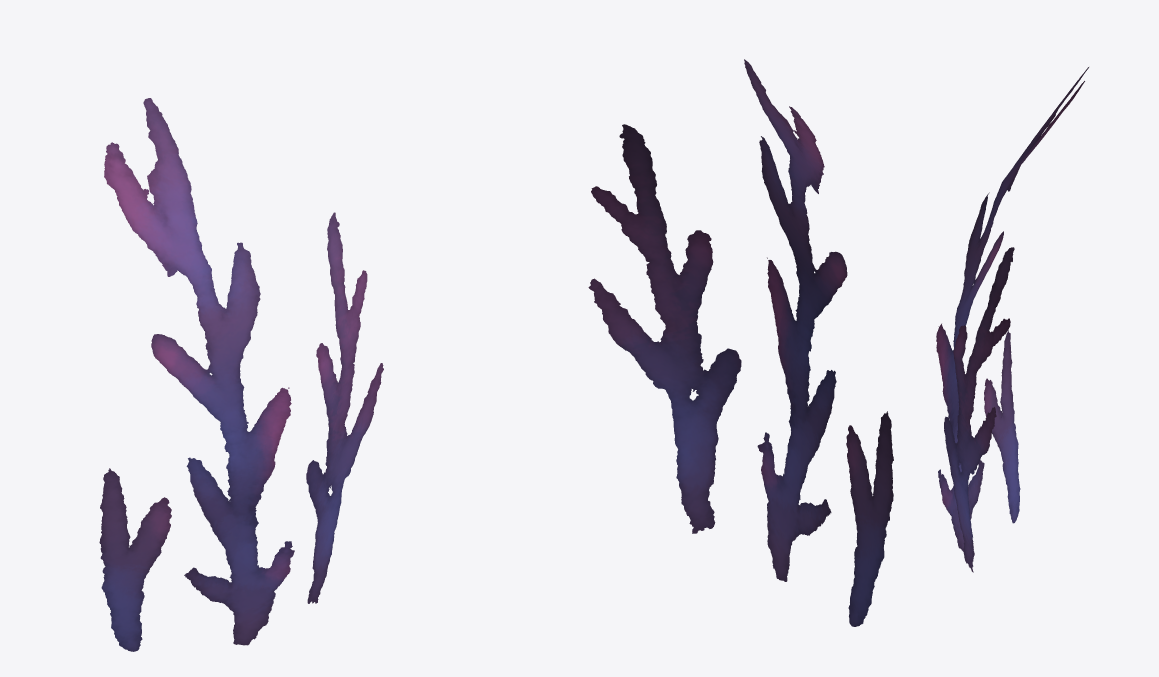
File: MSH_GrassCards_03.fbx
3 views of the same model, side by side, from view 1: azimuth 30°, elevation 25°; view 2: azimuth 150°, elevation 25°; view 3: azimuth 270°, elevation 25° (orthographic). The views are drawn at different scales.
Visible parts, largest first — view 1: polySurface2; view 2: polySurface2; view 3: polySurface2.
Boxes of the visible parts, left/top/right/bottom form: polySurface2: left=99, top=98, right=383, bottom=651; polySurface2: left=588, top=59, right=893, bottom=626; polySurface2: left=936, top=67, right=1088, bottom=572.
Size of the model in its own units: 113 by 168 by 64.64.
